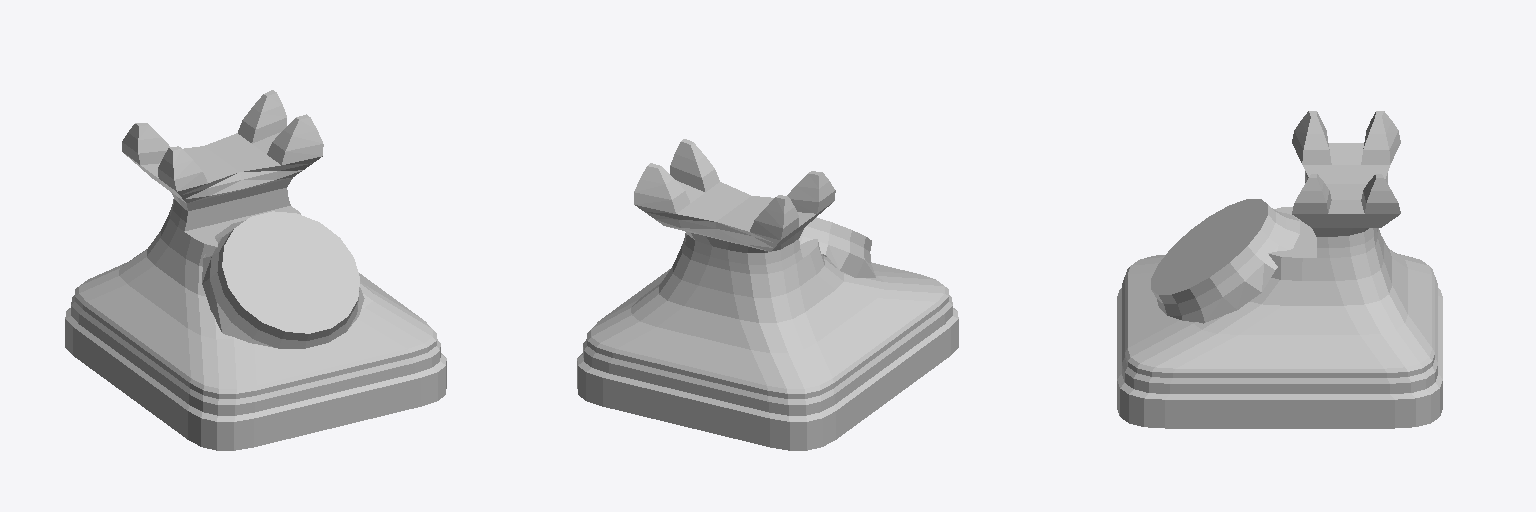
Rendered from LowPolyPhonebaseSmooth.obj.
The picture shows the model from 3 angles: view 1: azimuth 30°, elevation 25°; view 2: azimuth 150°, elevation 25°; view 3: azimuth 270°, elevation 25°; orthographic projection.
Visible parts, largest first — view 1: phone; view 2: phone; view 3: phone.
Boxes of the visible parts, <box> form: phone: <box>65,90,446,450</box>; phone: <box>577,139,958,450</box>; phone: <box>1117,111,1442,428</box>.
Size of the model in its own units: 3.31 by 2.81 by 3.73.